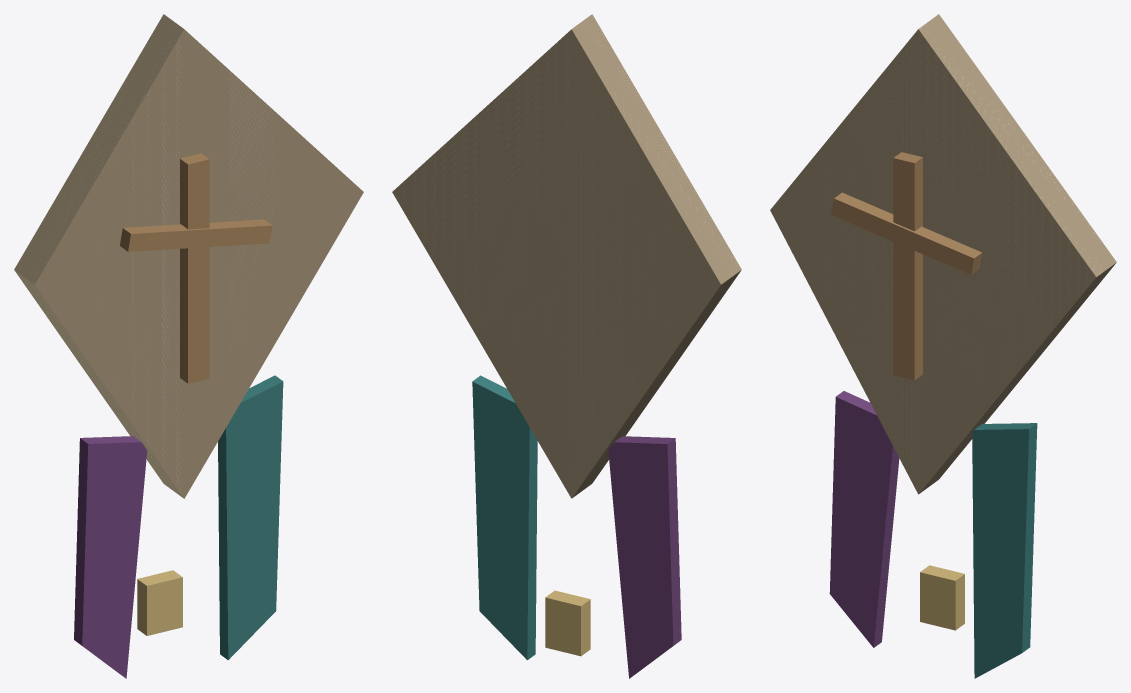
The model's file is OmenKite.glb.
3 views of the same model, side by side, from view 1: azimuth 30°, elevation 25°; view 2: azimuth 150°, elevation 25°; view 3: azimuth 330°, elevation 25° (orthographic).
Visible parts, largest first — view 1: OmenKite; view 2: OmenKite; view 3: OmenKite.
Part boxes in pixels (x1=…): OmenKite: x1=14, y1=14, x2=363, y2=678; OmenKite: x1=392, y1=14, x2=741, y2=678; OmenKite: x1=770, y1=14, x2=1116, y2=678.
Size of the model in its own units: 0.275 by 0.5173 by 0.0652.
Materials: 5 (1 with a texture image).
